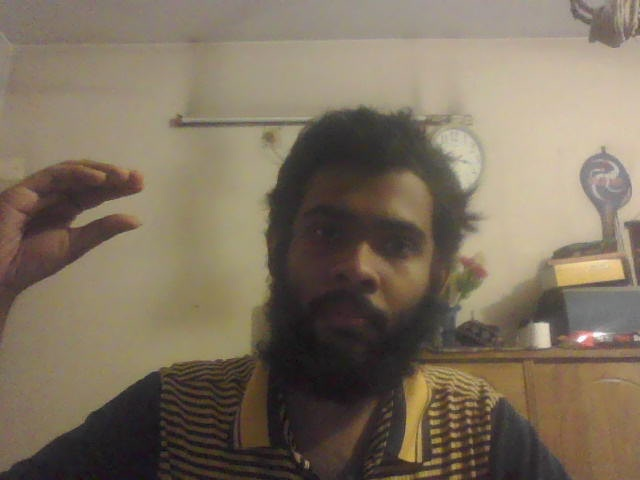No: (1, 161, 143, 283)
